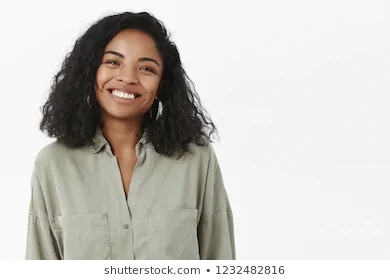C_blouse: (18, 129, 243, 259)
